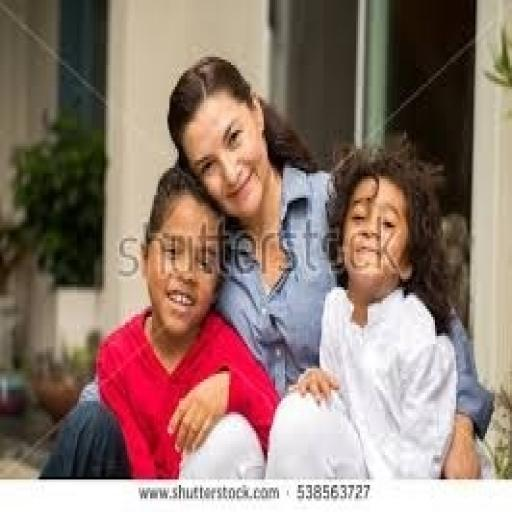hugging: (36, 52, 492, 480), (37, 162, 281, 480), (264, 138, 460, 480)
